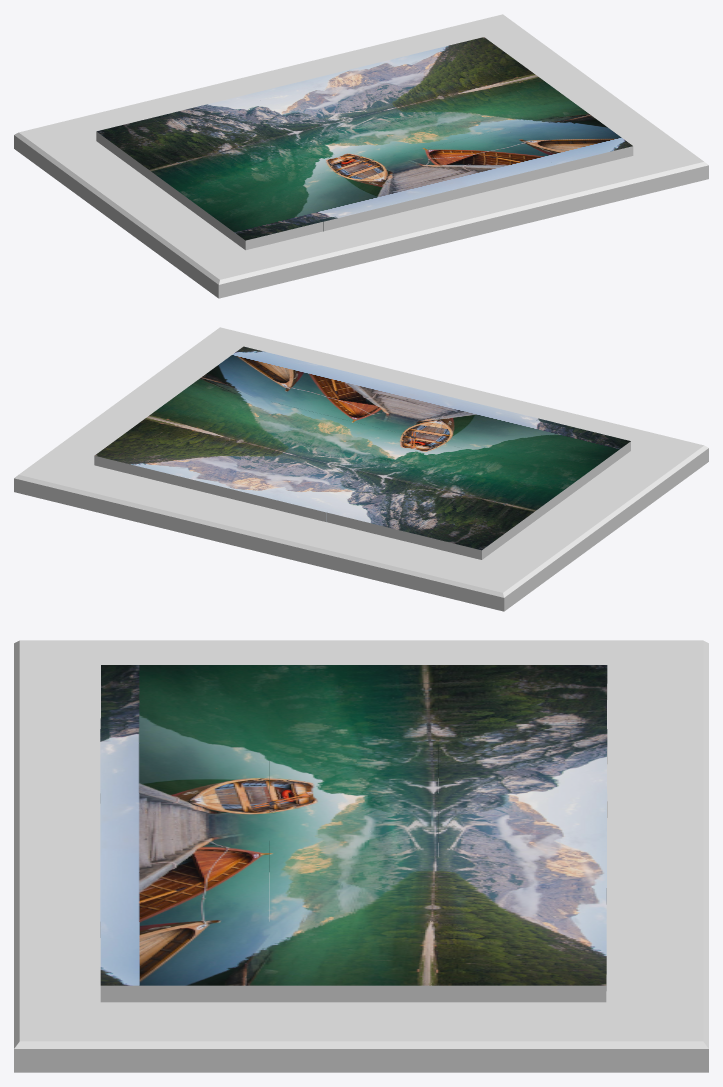
The model's file is Landscape_Box_Slider.fbx.
3 views of the same model, one above another, from view 1: azimuth 30°, elevation 25°; view 2: azimuth 150°, elevation 25°; view 3: azimuth 270°, elevation 25° (orthographic). The views are drawn at different scales.
Parts seen in each view (by area): view 1: Cube.015, Cube.001, Cube.003, Cube.005, Cube.002, Cube.004, Cube, Cube.014, Cube.008, Cube.012, Cube.010, Cube.013 (+4 smaller); view 2: Cube.015, Cube, Cube.011, Cube.012, Cube.007, Cube.009, Cube.014, Cube.001, Cube.004, Cube.013, Cube.010, Cube.002 (+4 smaller); view 3: Cube.015, Cube.005, Cube.007, Cube.006, Cube.003, Cube.002, Cube.010, Cube.013, Cube.012, Cube.011, Cube.008, Cube.004 (+4 smaller).
Part boxes in pixels (bbox=[...]): Cube.015: bbox=[14, 14, 708, 298]; Cube.001: bbox=[195, 185, 322, 250]; Cube.003: bbox=[351, 147, 478, 212]; Cube.005: bbox=[506, 110, 633, 174]; Cube.002: bbox=[274, 166, 400, 231]; Cube.004: bbox=[429, 129, 555, 193]; Cube: bbox=[96, 112, 223, 176]; Cube.014: bbox=[146, 149, 272, 213]; Cube.008: bbox=[379, 92, 505, 147]; Cube.012: bbox=[174, 93, 300, 148]; Cube.010: bbox=[301, 111, 427, 166]; Cube.013: bbox=[224, 130, 350, 185]; Cube.015: bbox=[14, 327, 708, 611]; Cube: bbox=[404, 495, 531, 559]; Cube.011: bbox=[249, 457, 376, 522]; Cube.012: bbox=[327, 476, 453, 540]; Cube.007: bbox=[94, 419, 221, 484]; Cube.009: bbox=[172, 438, 298, 502]; Cube.014: bbox=[454, 458, 581, 523]; Cube.001: bbox=[504, 422, 630, 486]; Cube.004: bbox=[271, 365, 397, 420]; Cube.013: bbox=[377, 439, 503, 494]; Cube.010: bbox=[299, 421, 425, 475]; Cube.002: bbox=[427, 403, 553, 458]; Cube.015: bbox=[14, 640, 708, 1072]; Cube.005: bbox=[100, 921, 269, 1002]; Cube.007: bbox=[437, 921, 606, 1002]; Cube.006: bbox=[269, 921, 437, 1002]; Cube.003: bbox=[100, 793, 269, 871]; Cube.002: bbox=[100, 729, 269, 803]; Cube.010: bbox=[269, 793, 438, 857]; Cube.013: bbox=[269, 729, 438, 793]; Cube.012: bbox=[438, 729, 607, 793]; Cube.011: bbox=[438, 793, 607, 857]; Cube.008: bbox=[269, 857, 438, 921]; Cube.004: bbox=[100, 857, 268, 937].
Bounding box in the file's own units: 1874 × 97.11 × 1356.
